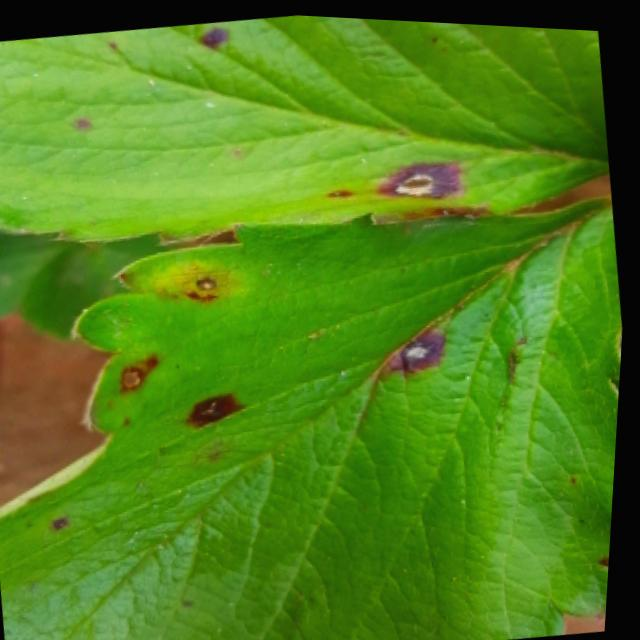Leaf Spot: (0, 192, 626, 640), (0, 12, 612, 243)
